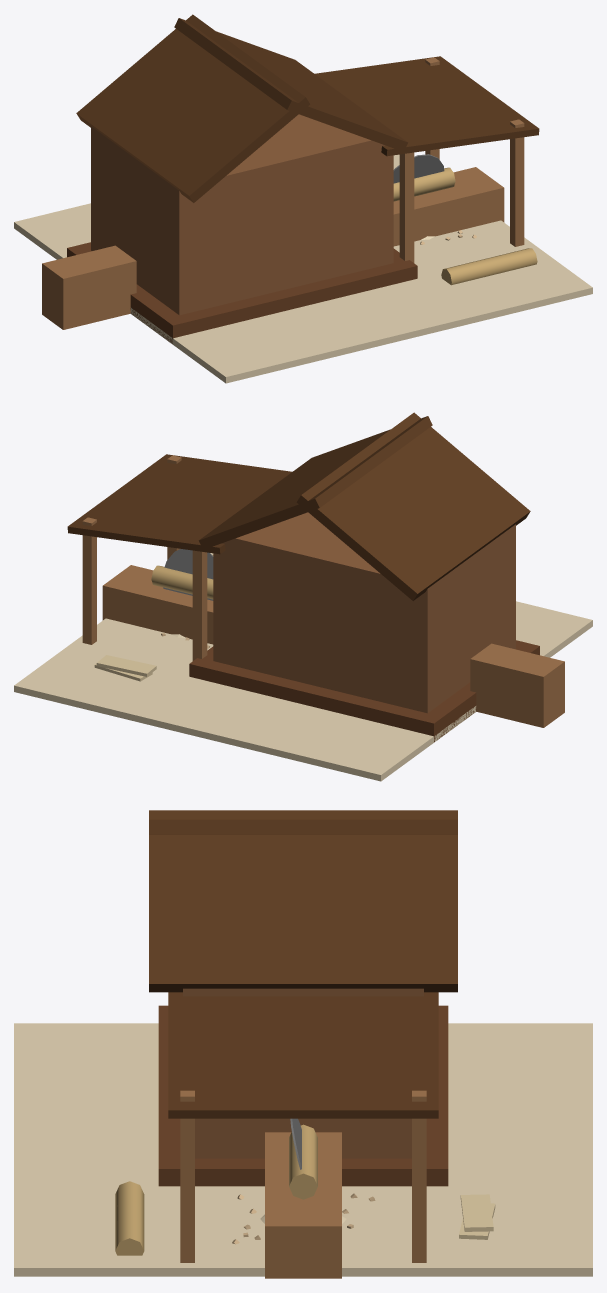
The model's file is sawmill.glb.
The picture shows the model from 3 angles, top to bottom: view 1: azimuth 30°, elevation 25°; view 2: azimuth 150°, elevation 25°; view 3: azimuth 270°, elevation 25°; orthographic projection. The views are drawn at different scales.
Parts seen in each view (by area): view 1: WorkshopBody, SawdustGround, MainRoofL, ExtensionRoof, MainFoundation, MainRoofR, Workbench, SawTable, SupportBeam1, SupportBeam3, InputLog2, ActiveLog (+2 smaller); view 2: WorkshopBody, SawdustGround, MainRoofL, ExtensionRoof, MainFoundation, MainRoofR, Workbench, SawTable, SupportBeam2, SupportBeam4, ActiveLog, SawBlade (+1 smaller); view 3: SawdustGround, MainRoofR, ExtensionRoof, MainFoundation, SawTable, WorkshopBody, MainRoofL, SupportBeam1, SupportBeam2, ActiveLog, InputLog2, OutputPlank3 (+1 smaller).
Part boxes in pixels (x1,y1,x2,y2): WorkshopBody: (91, 114, 393, 315); SawdustGround: (14, 154, 592, 383); MainRoofL: (76, 14, 310, 202); ExtensionRoof: (314, 56, 539, 156); MainFoundation: (67, 242, 417, 343); MainRoofR: (174, 18, 408, 151); Workbench: (42, 245, 136, 329); SawTable: (393, 167, 504, 246); SupportBeam1: (510, 119, 524, 246); SupportBeam3: (399, 152, 414, 262); InputLog2: (468, 248, 537, 278); ActiveLog: (393, 167, 455, 201); WorkshopBody: (213, 512, 515, 713); SawdustGround: (14, 553, 592, 781); MainRoofL: (296, 412, 530, 600); ExtensionRoof: (67, 454, 292, 554); MainFoundation: (189, 640, 539, 742); MainRoofR: (198, 416, 432, 549); Workbench: (470, 643, 564, 727); SawTable: (102, 565, 213, 644); SupportBeam2: (82, 517, 96, 644); SupportBeam4: (192, 550, 207, 660); ActiveLog: (151, 565, 213, 599); SawBlade: (163, 549, 213, 600); SawdustGround: (14, 1023, 592, 1276); MainRoofR: (149, 810, 457, 992); ExtensionRoof: (168, 992, 438, 1118); MainFoundation: (158, 1005, 448, 1186); SawTable: (265, 1132, 341, 1278); WorkshopBody: (183, 988, 423, 1158); MainRoofL: (149, 819, 457, 834); SupportBeam1: (180, 1090, 194, 1262); SupportBeam2: (412, 1090, 426, 1262); ActiveLog: (289, 1124, 317, 1199); InputLog2: (115, 1197, 144, 1255); OutputPlank3: (460, 1194, 493, 1231).
Bounding box in the file's own units: 7.15 × 3.41 × 6.
